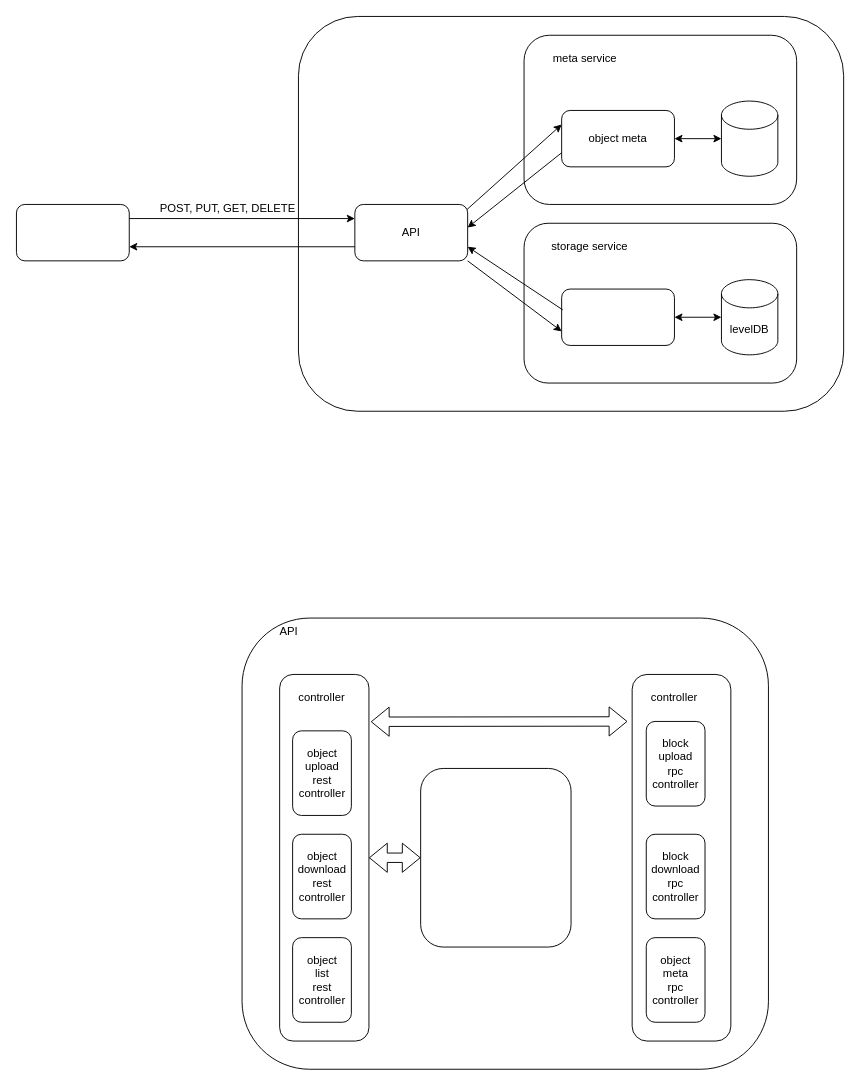
The diagram is 860 pixels wide and 1086 high, and some of its shapes have lost their labels. The centre of each missing label's shape, as x and y in pixels:
"nosql" belongs at (749,138).
"service" belongs at (495,857).
"storage node" belongs at (617,316).
"USER" belongs at (72,232).
